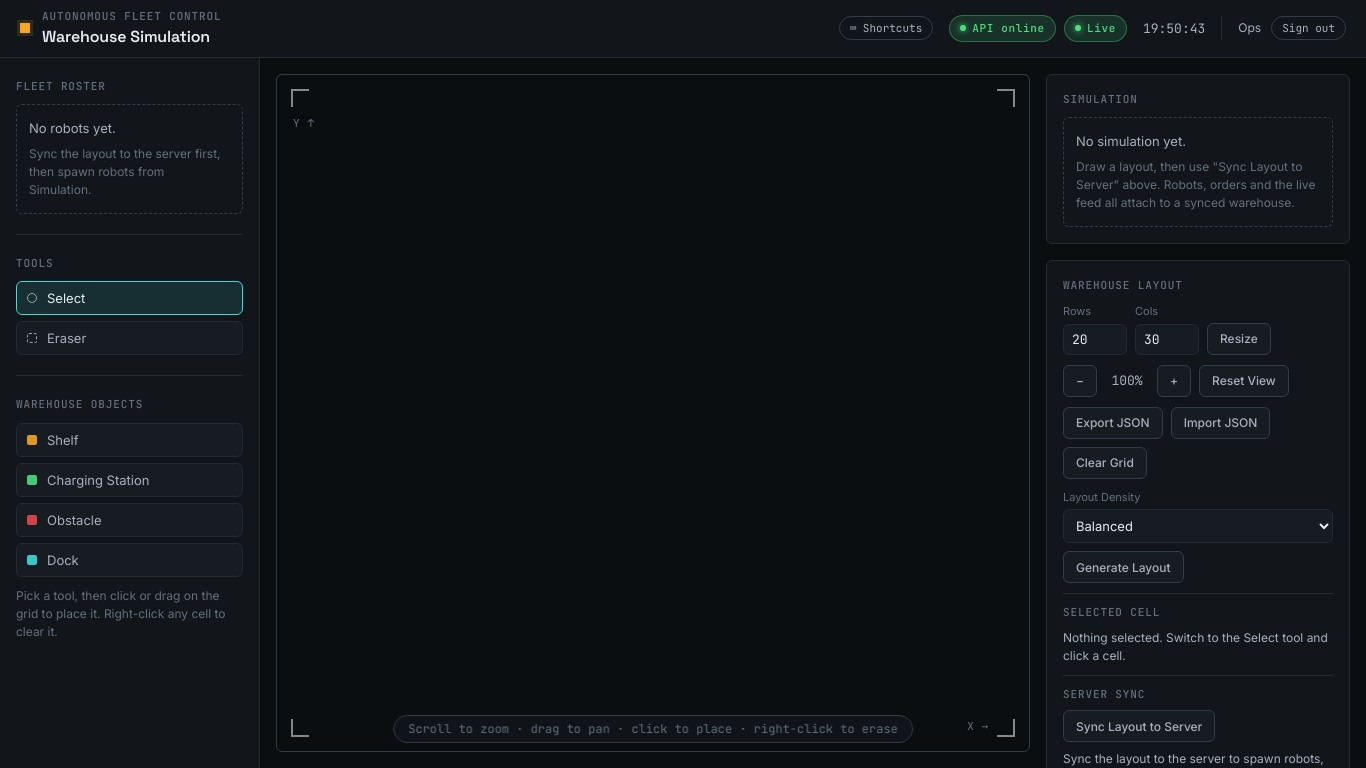
Test case: API failure and unauthorized responses › keeps the rest of the dashboard alive when one panel fails to load
Click the button "Sync Layout to Server".
click(1139, 726)  # box [1063,710,1215,742]
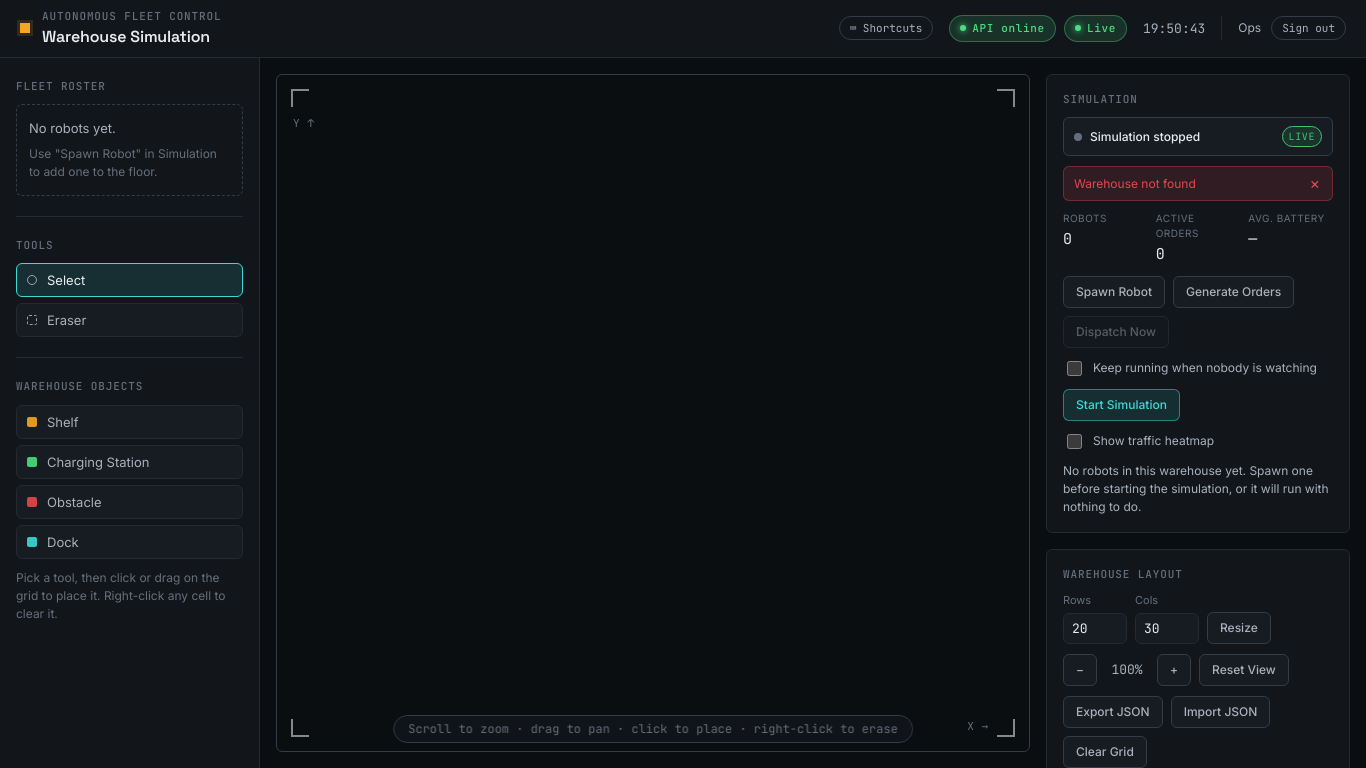
Expected: the heading "Fleet Roster" is shown, [16,78,106,92]
Now the text "Warehouse not found" is shown, box [1074,176,1196,191]
